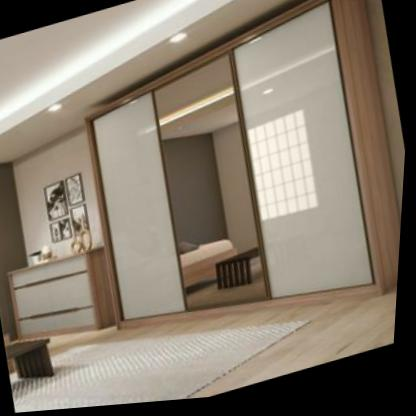Closet: (91, 0, 382, 323)
Sideboard: (9, 249, 112, 344)
